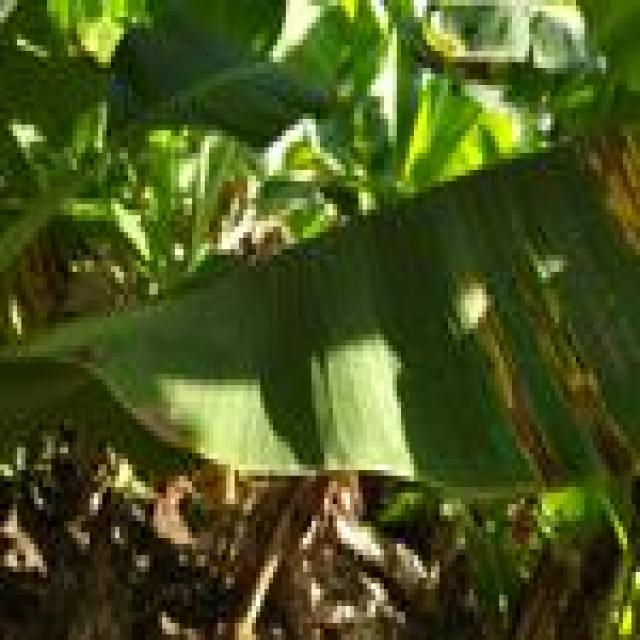Early_rust: (341, 0, 639, 498)
